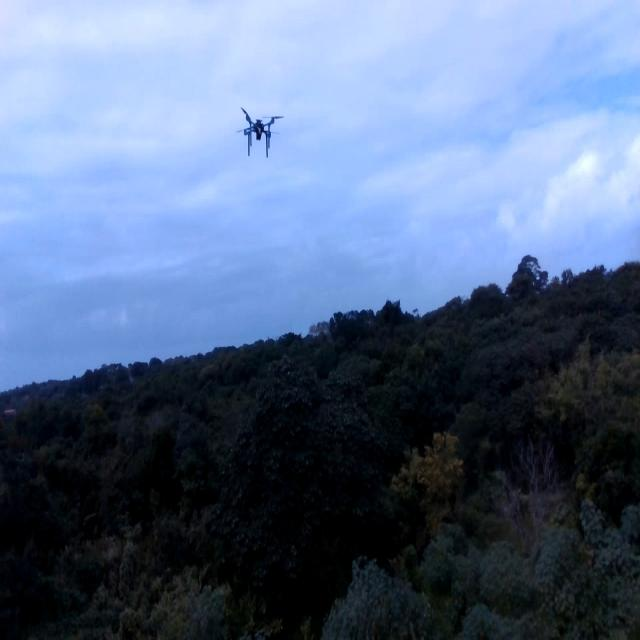-uav-: (228, 90, 288, 168)
